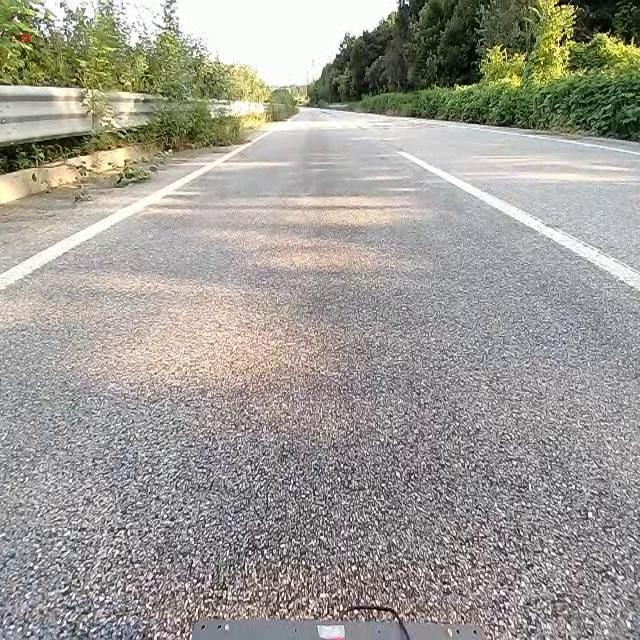Lane: (2, 118, 283, 292), (0, 129, 272, 290), (397, 150, 640, 297), (397, 151, 639, 291)
